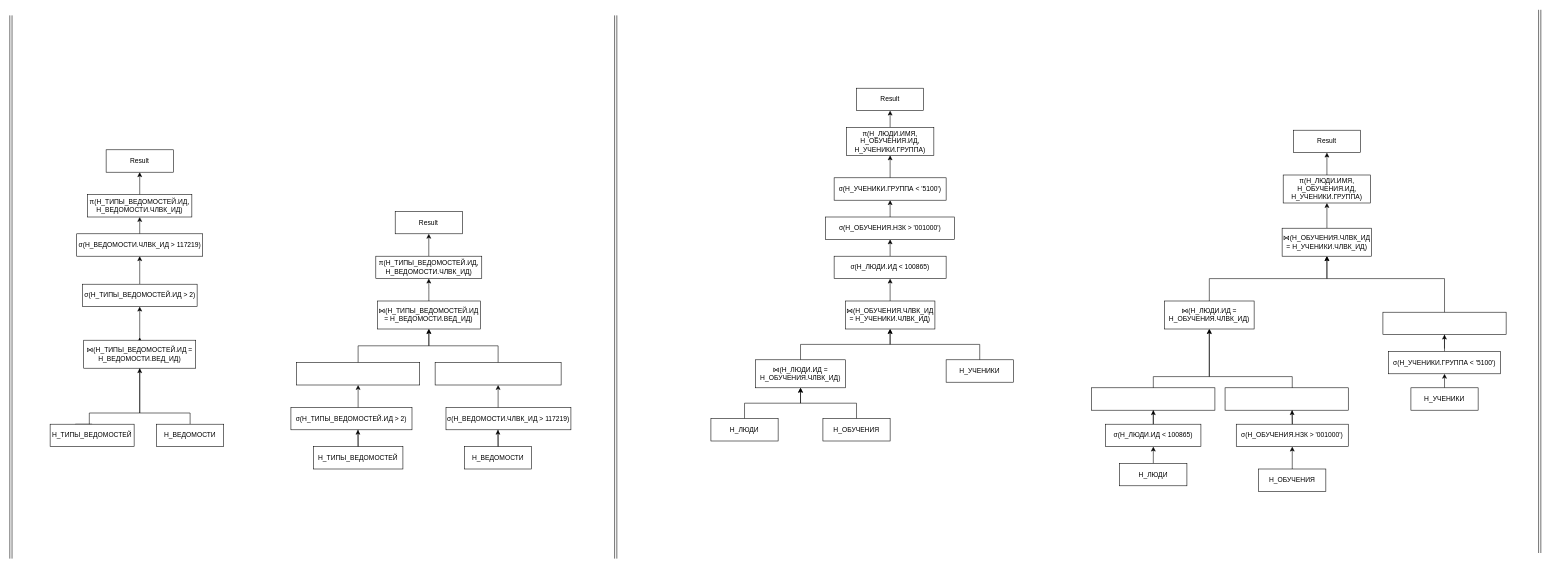
This 1551x568 diagram has some shape labels left out. The centre of each missing label's shape, as x and y in pixels:
"π(Н_ВЕДОМОСТИ.ВЕД_ИД, Н_ВЕДОМОСТИ.ЧЛВК_ИД)" belongs at point (498, 373).
"π(Н_ЛЮДИ.ИД, Н_ЛЮДИ.ИМЯ)" belongs at point (1153, 398).
"π(Н_ОБУЧЕНИЯ.ЧЛВК_ИД, Н_ОБУЧЕНИЯ.ИД)" belongs at point (1286, 398).
"π(Н_ТИПЫ_ВЕДОМОСТЕЙ.ИД)" belongs at point (358, 373).
"π(Н_УЧЕНИКИ.ЧЛВК_ИД, Н_УЧЕНИКИ.ГРУППА)" belongs at point (1444, 323).
